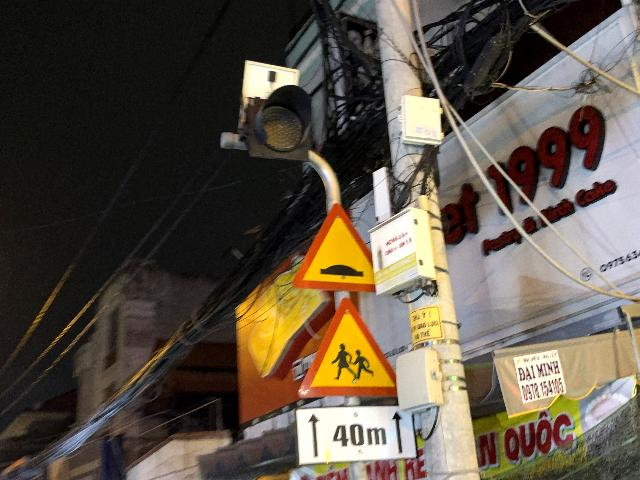duong-co-go-giam-toc: (292, 203, 376, 293)
tre-em-qua-duong: (298, 298, 397, 397)
